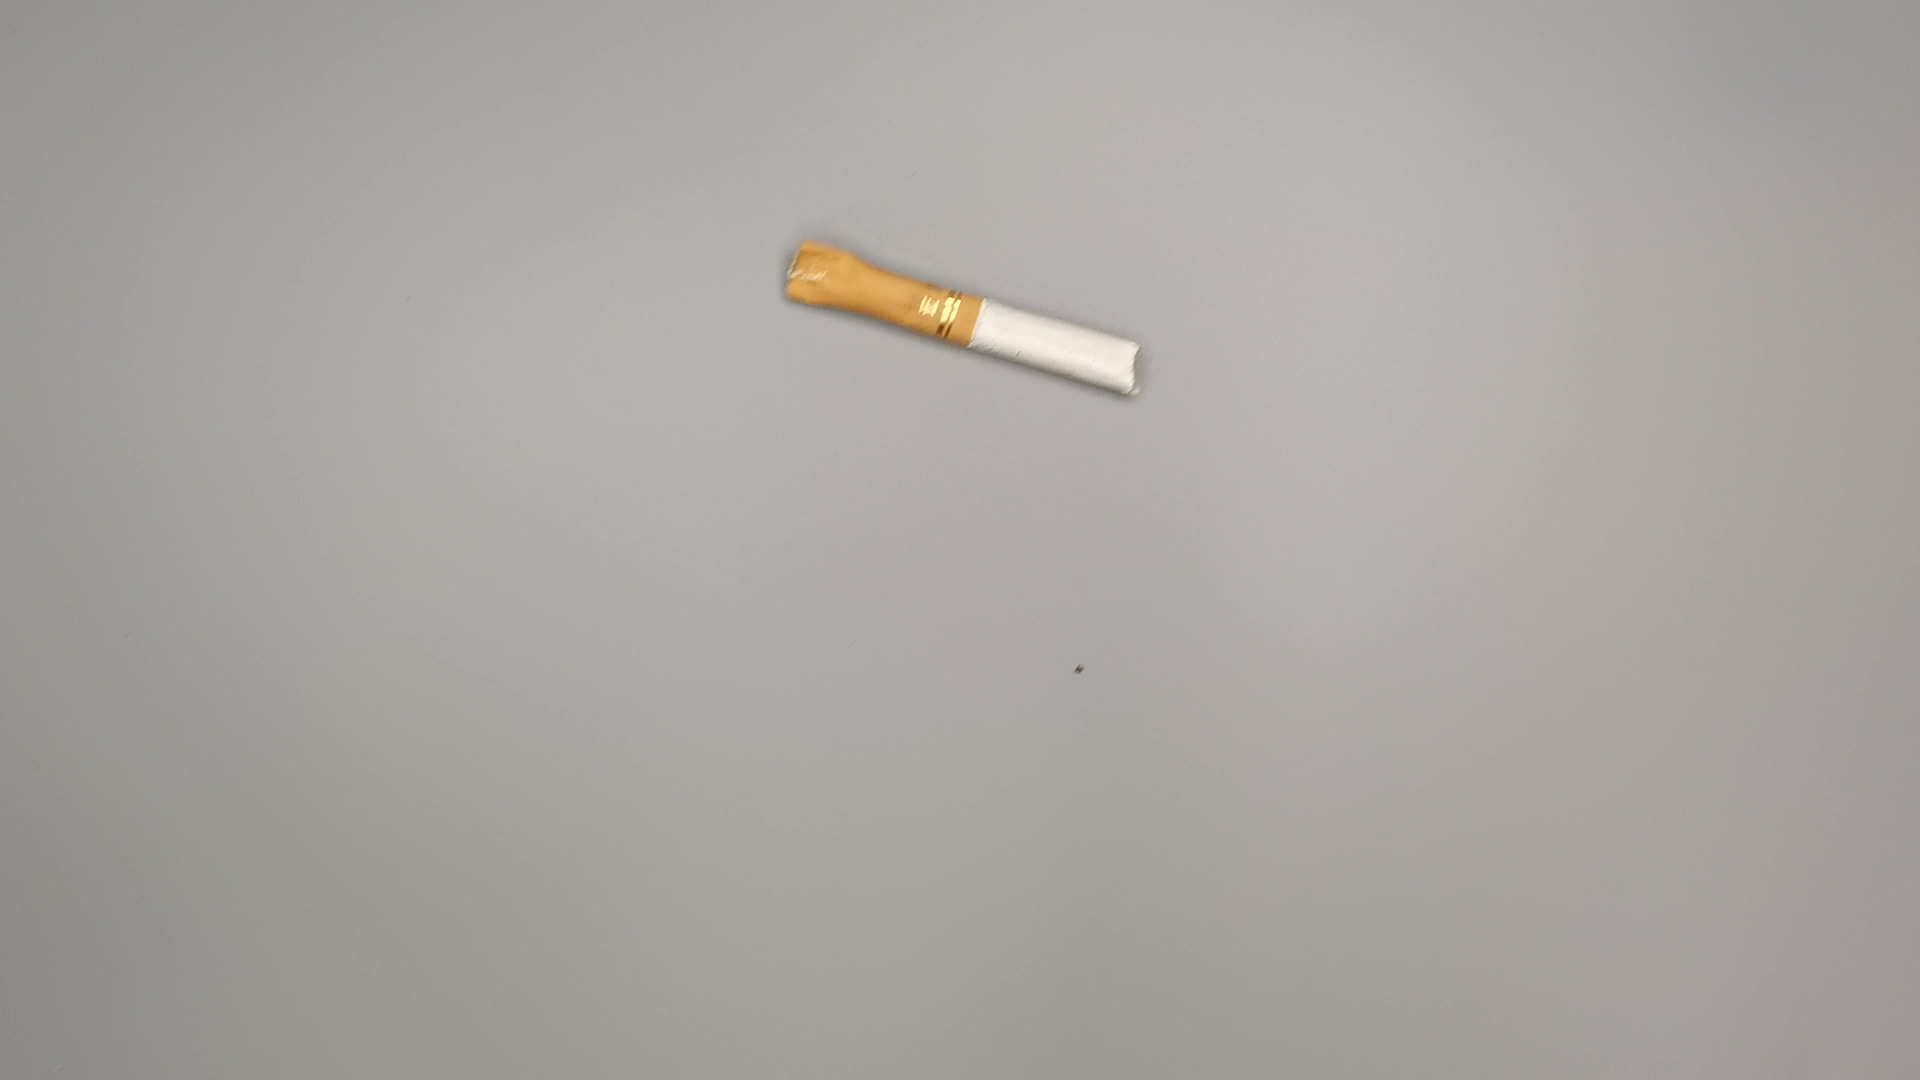cigarette: (775, 235, 1167, 402)
